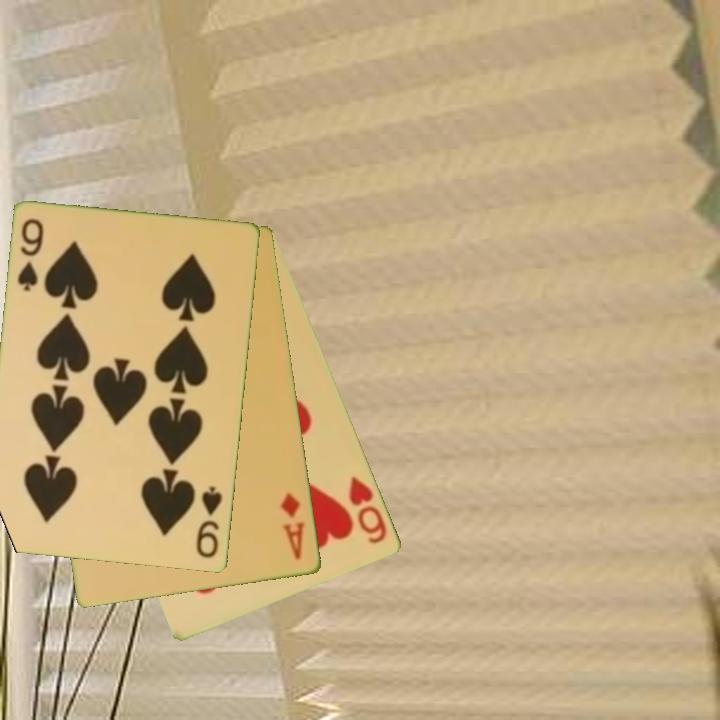6h: (346, 472, 391, 547)
9s: (14, 215, 47, 295), (193, 483, 226, 562)
Ad: (277, 489, 309, 563)
